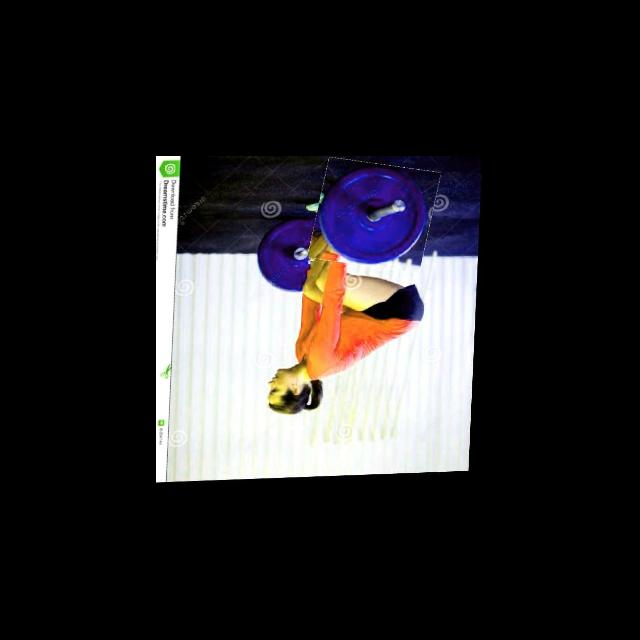barbell: (312, 160, 438, 274)
